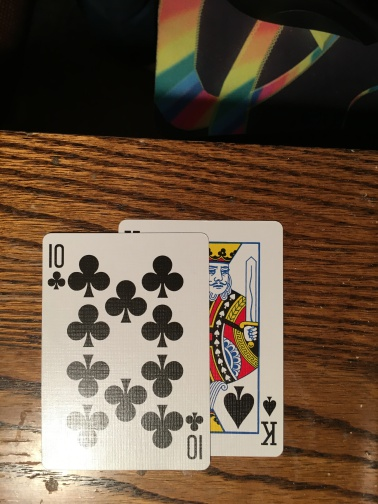king: (201, 215, 282, 452)
ten: (41, 230, 211, 469)
